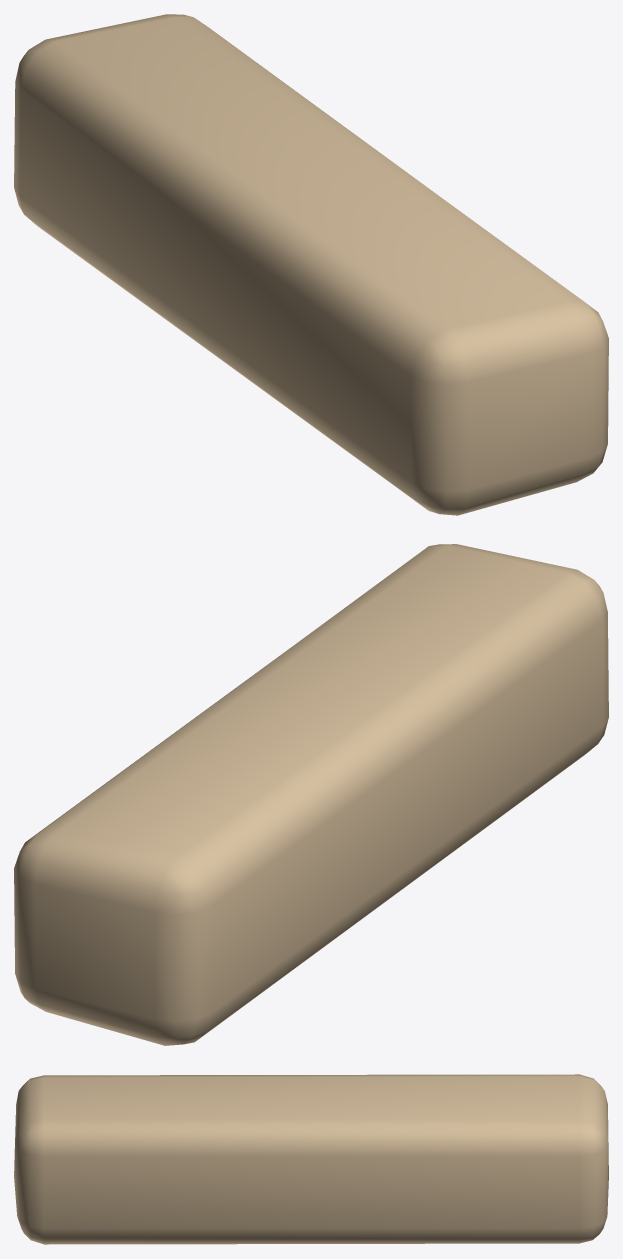
The model's file is MAUER_12.glb.
The picture shows the model from 3 angles, top to bottom: view 1: azimuth 30°, elevation 25°; view 2: azimuth 150°, elevation 25°; view 3: azimuth 270°, elevation 25°; orthographic projection. The views are drawn at different scales.
Parts seen in each view (by area): view 1: MAUER_12; view 2: MAUER_12; view 3: MAUER_12.
Boxes of the visible parts, x1,y1,x2,y2 form: MAUER_12: (14,14,608,515); MAUER_12: (14,544,608,1045); MAUER_12: (14,1074,608,1244).
Size of the model in its own units: 0.8037 by 0.7395 by 3.13.
